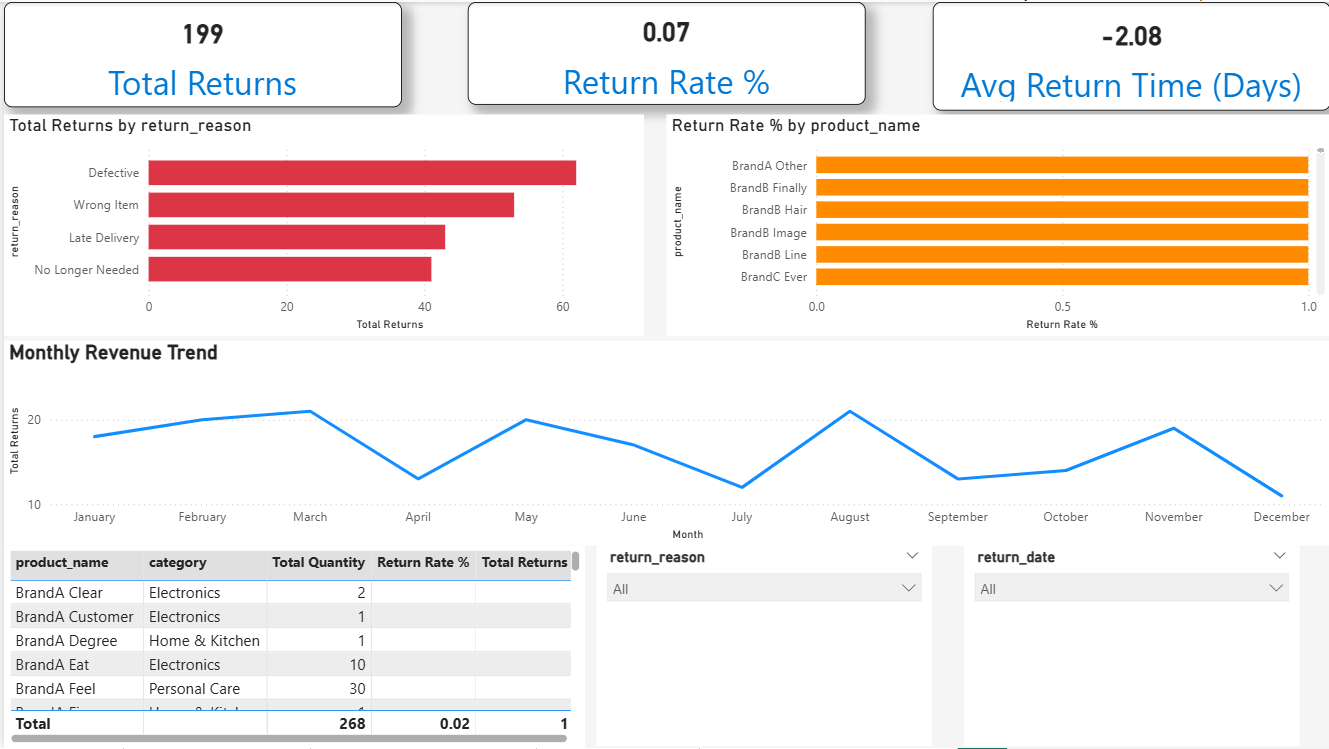

The dashboard page shown, as its layout file describes it:
{"tool":"powerbi","page":{"name":"RETURN BEHAVIOR PATTERNS","canvas":[1280,720],"ordinal":4},"visuals":[{"type":"card","fields":{"Values":["sql_returns.Total Returns"]},"box":[0,0,383.6,101.3],"z":0},{"type":"card","fields":{"Values":["sql_returns.Return Rate %"]},"box":[447.6,0,383.6,98.9],"z":1000},{"type":"card","fields":{"Values":["sql_returns.Avg Return Time (Days)"]},"box":[896.4,0,383.6,105],"z":2000},{"type":"barChart","fields":{"Category":["sql_returns.return_reason"],"Y":["sql_returns.Total Returns"]},"box":[0,108.6,617.7,213.5],"z":3000},{"type":"barChart","fields":{"Category":["sql_product.product_name"],"Y":["sql_returns.Return Rate %"]},"box":[639.4,108.6,640.6,213.5],"z":4000},{"type":"lineChart","title":"Monthly Revenue Trend","fields":{"Category":["sql_returns.return_date.Variation.Date Hierarchy.Month"],"Y":["sql_returns.Total Returns"]},"box":[0,326.9,1280,197.9],"z":5000},{"type":"tableEx","fields":{"Values":["sql_product.product_name","sql_product.category","sql_sales.Total Quantity","sql_returns.Return Rate %","sql_returns.Total Returns"]},"box":[0,524.8,561,195.4],"z":6000},{"type":"slicer","fields":{"Values":["sql_returns.return_reason"]},"box":[572.2,522.8,323.8,196.2],"z":7000},{"type":"slicer","fields":{"Values":["sql_returns.return_date"]},"box":[926.2,522.8,323.8,196.2],"z":8000}]}

Visuals, with their boxes in screenshot pixels (x1, y1, x2, y2), scaled from the page's 1280x720 canvas onto the 1329x749 screenshot:
card - sql_returns.Total Returns: x1=0, y1=0, x2=398, y2=105
card - sql_returns.Return Rate %: x1=465, y1=0, x2=863, y2=103
card - sql_returns.Avg Return Time (Days): x1=931, y1=0, x2=1328, y2=109
barChart - sql_returns.return_reason x sql_returns.Total Returns: x1=0, y1=113, x2=641, y2=335
barChart - sql_product.product_name x sql_returns.Return Rate %: x1=664, y1=113, x2=1328, y2=335
"Monthly Revenue Trend" lineChart: x1=0, y1=340, x2=1328, y2=546
tableEx - sql_product.product_name x sql_product.category: x1=0, y1=546, x2=582, y2=748
slicer - sql_returns.return_reason: x1=594, y1=544, x2=930, y2=748
slicer - sql_returns.return_date: x1=962, y1=544, x2=1298, y2=748
